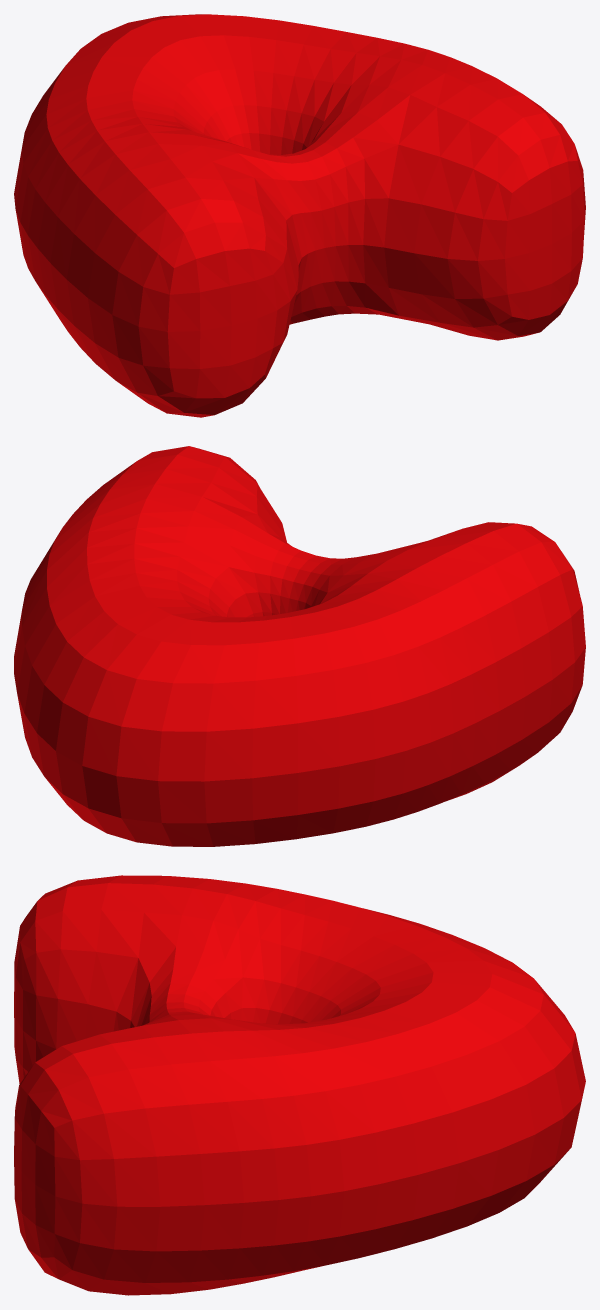
3 renders of one model, top to bottom at view 1: azimuth 30°, elevation 25°; view 2: azimuth 150°, elevation 25°; view 3: azimuth 270°, elevation 25°, orthographic. The views are drawn at different scales.
Bounding box in the file's own units: 1.01 × 0.4823 × 1.01.
